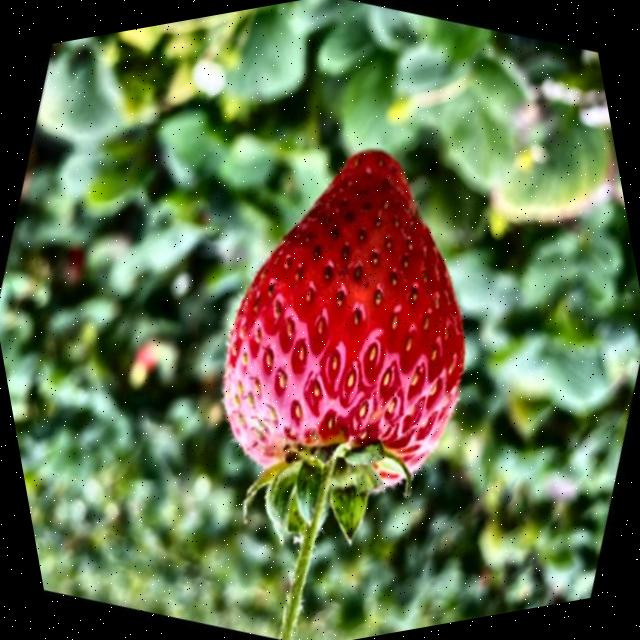strawberry: (221, 150, 463, 637)
